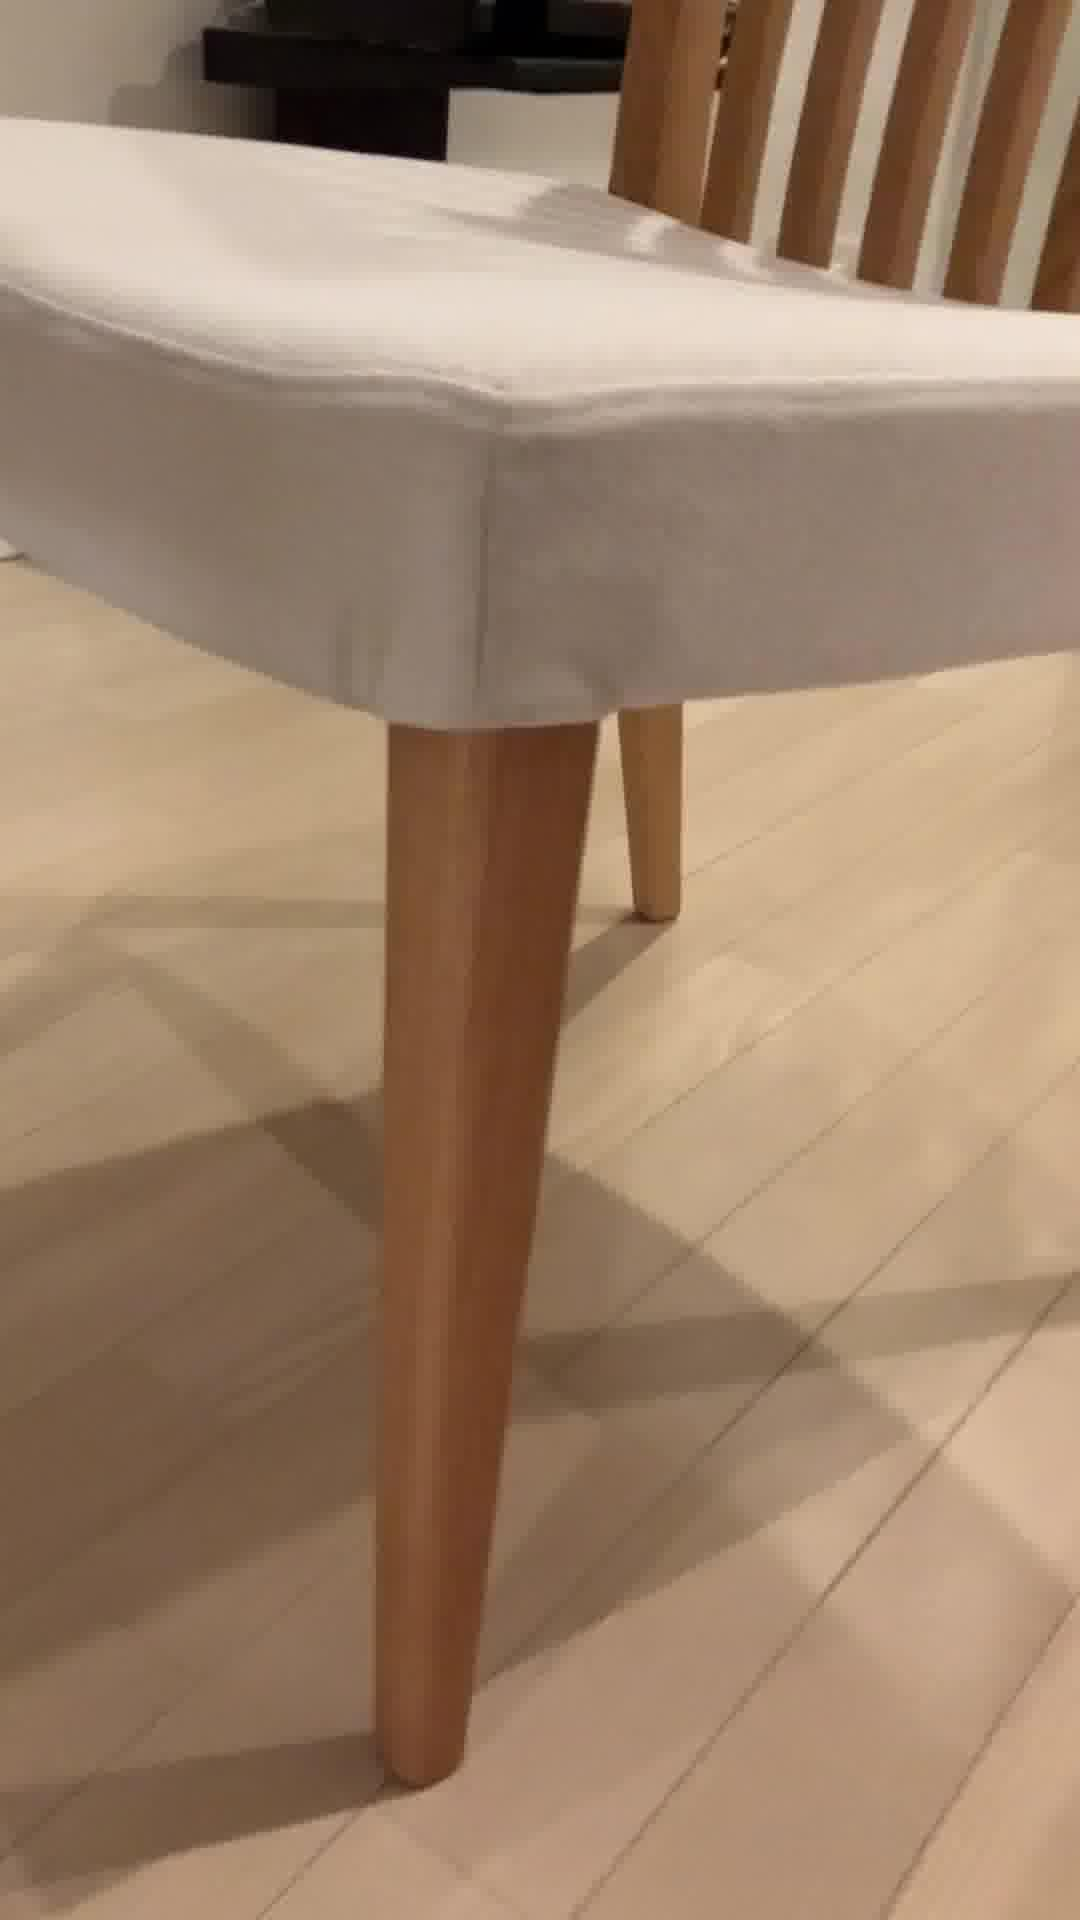takumikan-chair: (0, 0, 1080, 1785)
